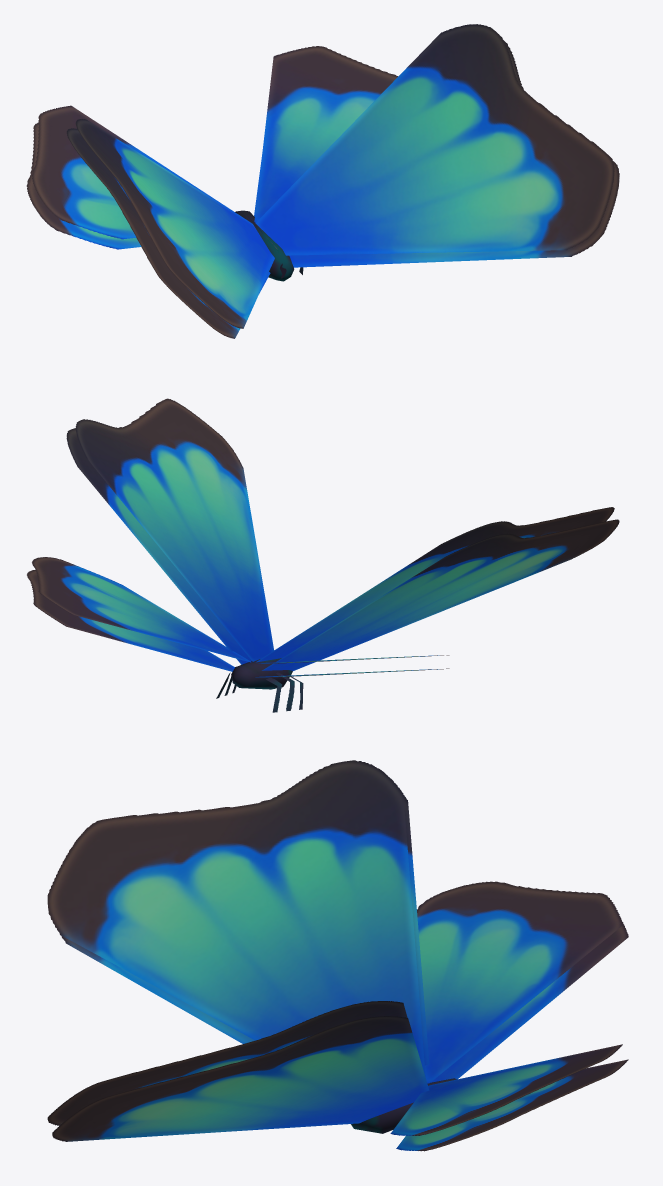
The model's file is SE_Butterfly_03.fbx.
3 views of the same model, one above another, from view 1: azimuth 30°, elevation 25°; view 2: azimuth 150°, elevation 25°; view 3: azimuth 270°, elevation 25° (orthographic). The views are drawn at different scales.
Parts seen in each view (by area): view 1: SE_Butterfly_03; view 2: SE_Butterfly_03; view 3: SE_Butterfly_03.
Part boxes in pixels (bbox=[...]): SE_Butterfly_03: bbox=[26, 24, 619, 338]; SE_Butterfly_03: bbox=[27, 398, 619, 712]; SE_Butterfly_03: bbox=[47, 760, 628, 1151].
Bounding box in the file's own units: 1.6 × 0.7008 × 1.48.
